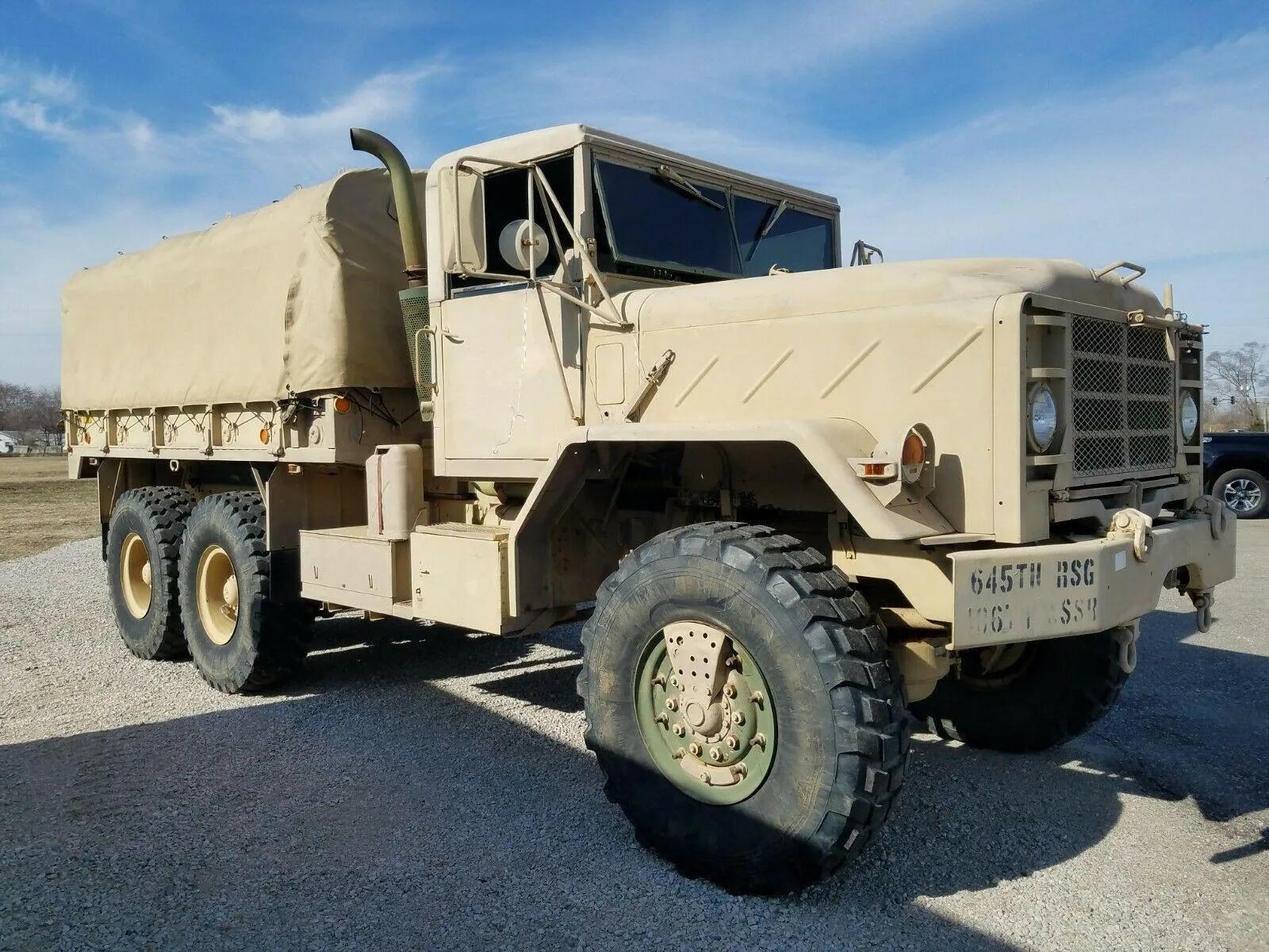truck: (67, 149, 1144, 825)
